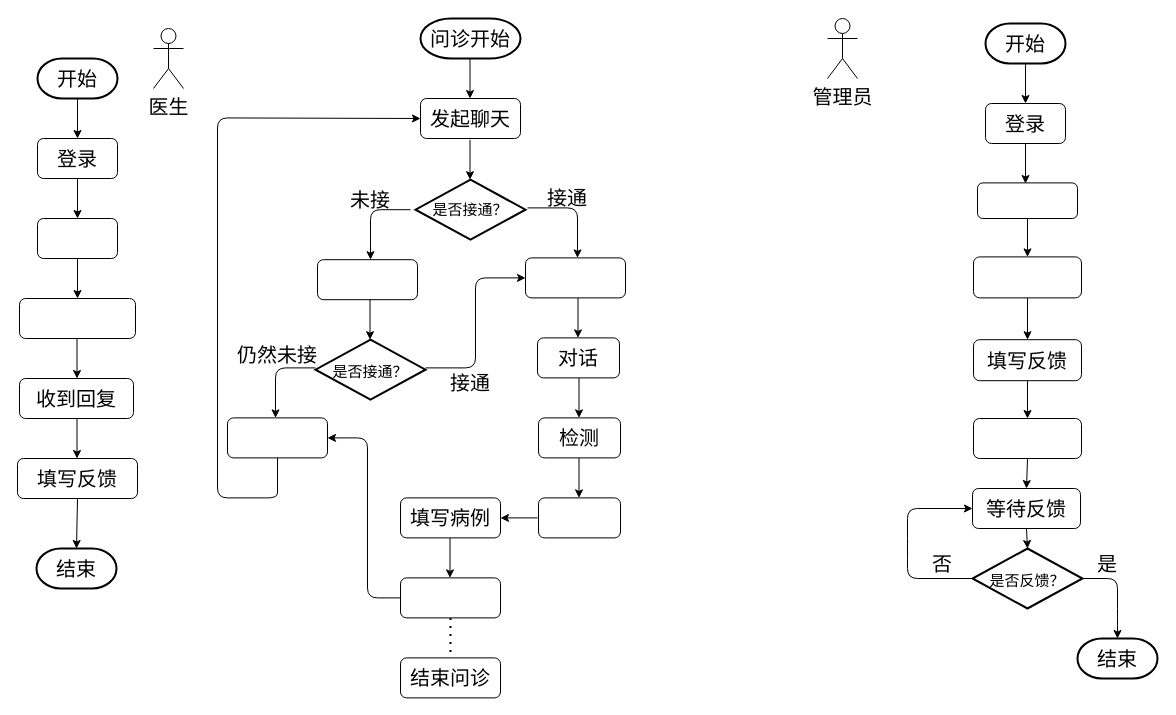
Image size: 1176x715. Some labels were removed from this diagram. Each missing label, with the centre of its shape:
"叫下一个" belongs at point (277, 437).
"告知患者" belongs at point (1027, 438).
"处理投诉" belongs at point (1027, 200).
"开始诊断" belongs at point (575, 277).
"开方" belongs at point (579, 517).
"投诉" belongs at point (77, 238).
"等候处理" belongs at point (77, 318).
"等待1分钟" belongs at point (367, 279).
"结束聊天" belongs at point (450, 597).
"谈话医生" belongs at point (1027, 277).
